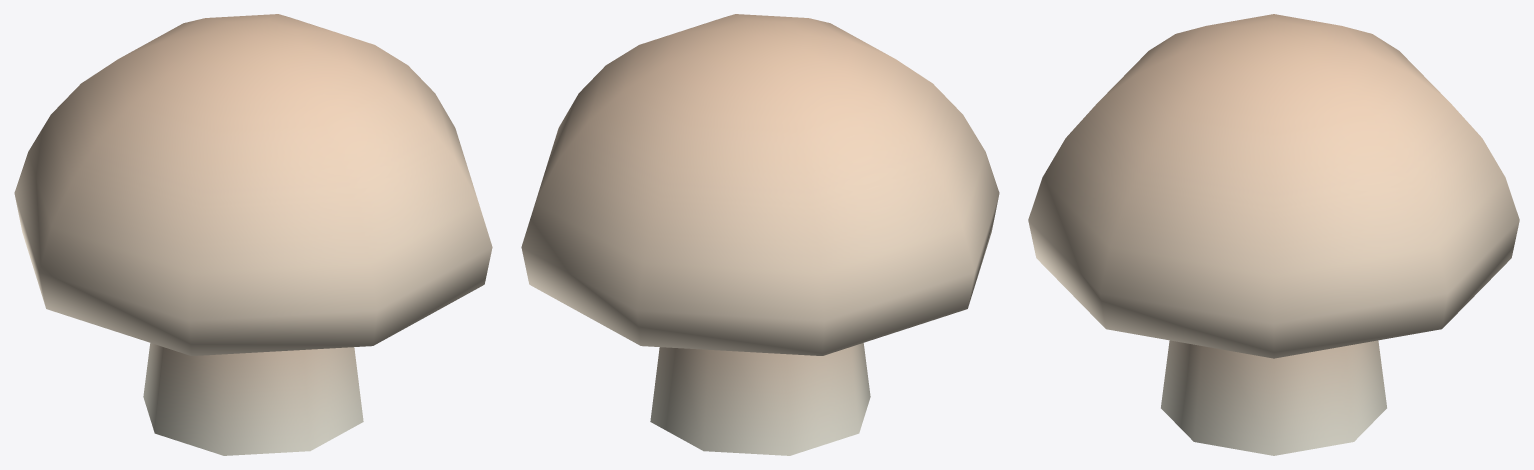
The model's file is mushroom_white.fbx.
3 renders of one model, left to right at view 1: azimuth 30°, elevation 25°; view 2: azimuth 150°, elevation 25°; view 3: azimuth 270°, elevation 25°, orthographic.
Parts seen in each view (by area): view 1: mushroom_white; view 2: mushroom_white; view 3: mushroom_white.
Boxes of the visible parts, <box> form: mushroom_white: <box>14,14,492,455</box>; mushroom_white: <box>521,14,999,455</box>; mushroom_white: <box>1028,14,1519,455</box>.
Bounding box in the file's own units: 36.77 × 30.61 × 36.77.
